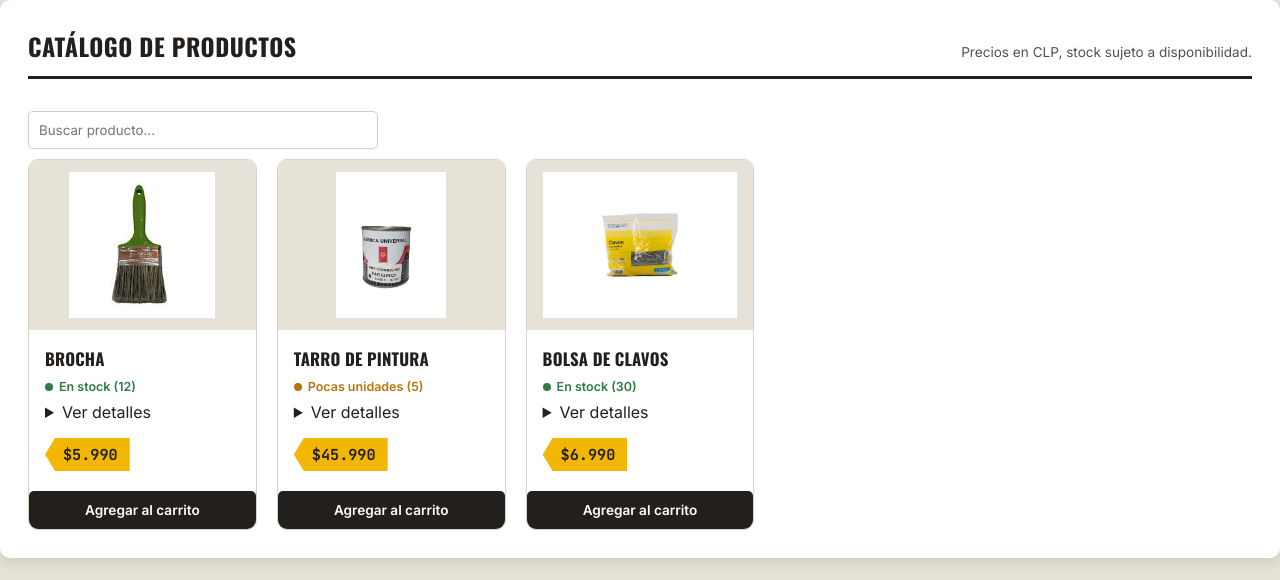
Test: El buscador filtra los productos según lo que se escribe
The width and height of the screenshot is (1280, 580).
Note: interaccion del usuario
Type "broch" into the field with placeholder "Buscar producto...". click: (203, 130)
box: [28,111,378,149]
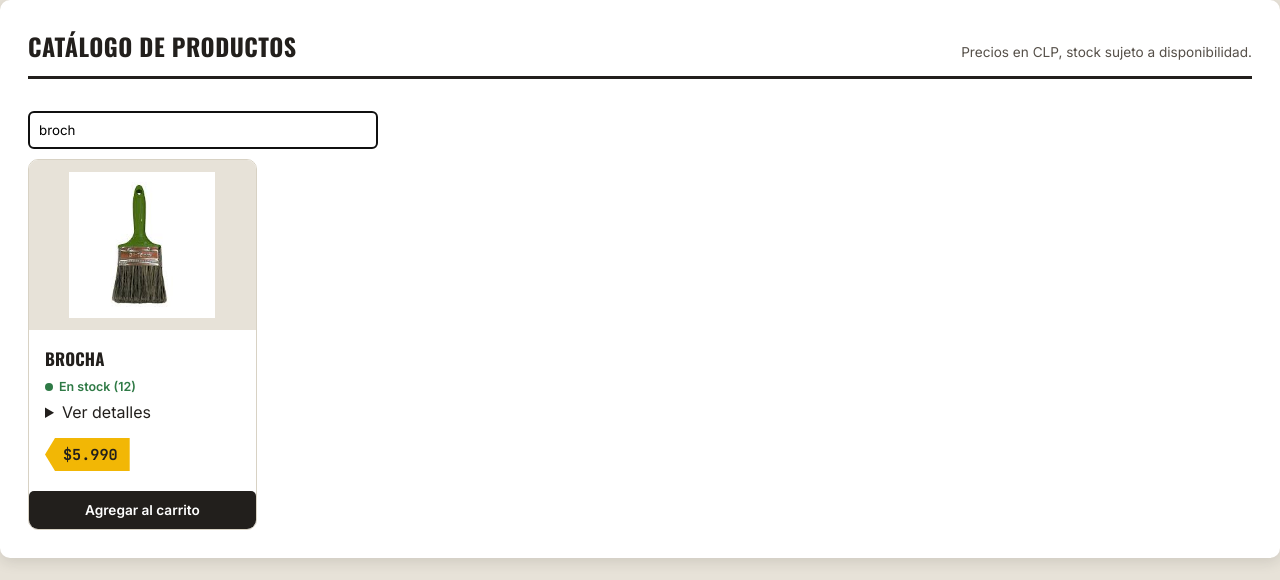
Check: the heading "Brocha" is shown, box [45,346,105,371]
Check: the heading "Tarro de pintura" is gone
Check: the heading "Bolsa de clavos" is gone
